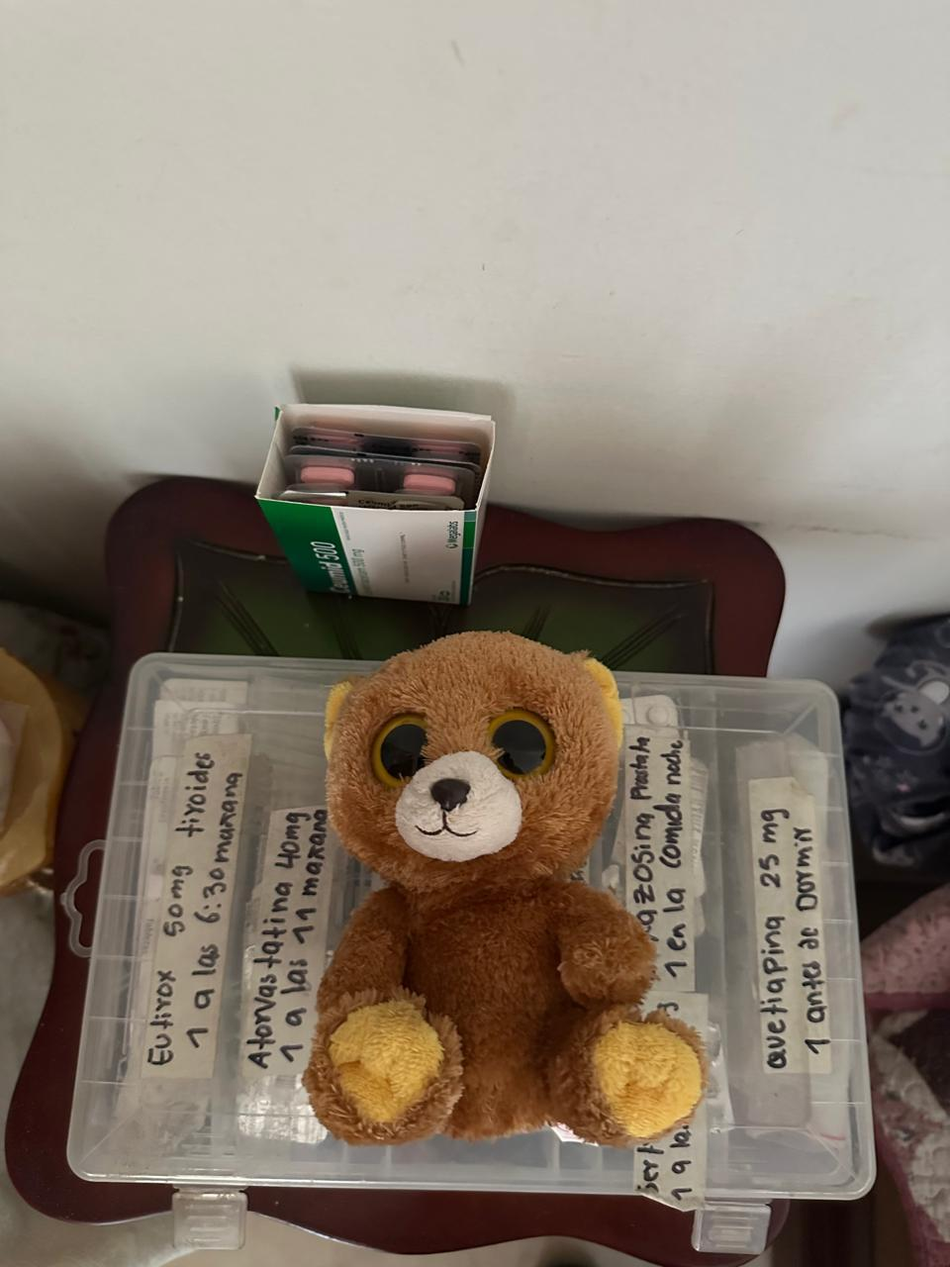peluche_sebastian: (319, 624, 710, 1163)
